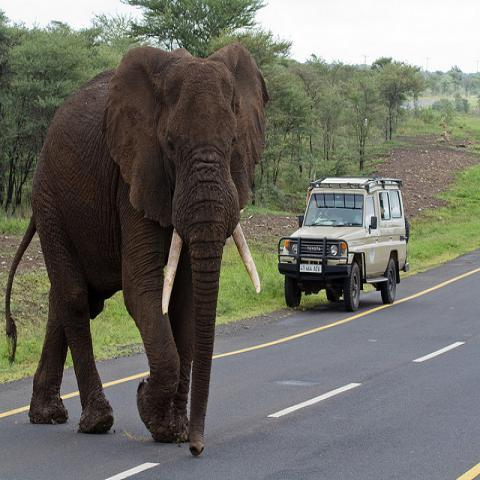truck: (278, 178, 409, 311)
